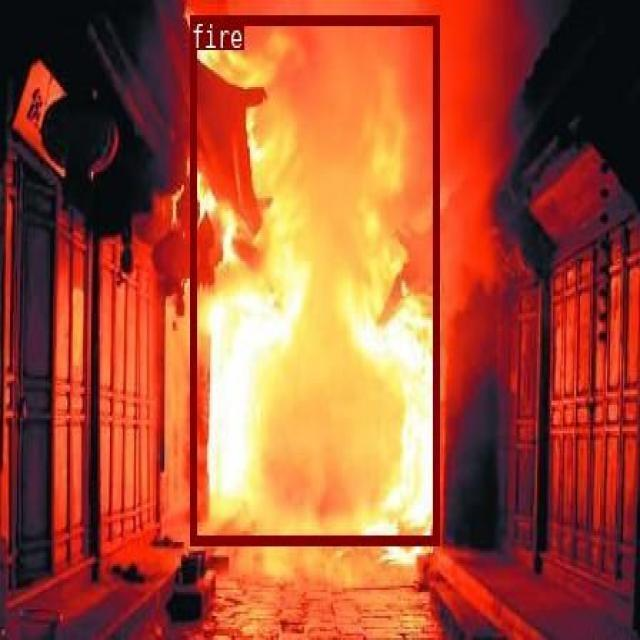fire: (189, 14, 438, 543)
